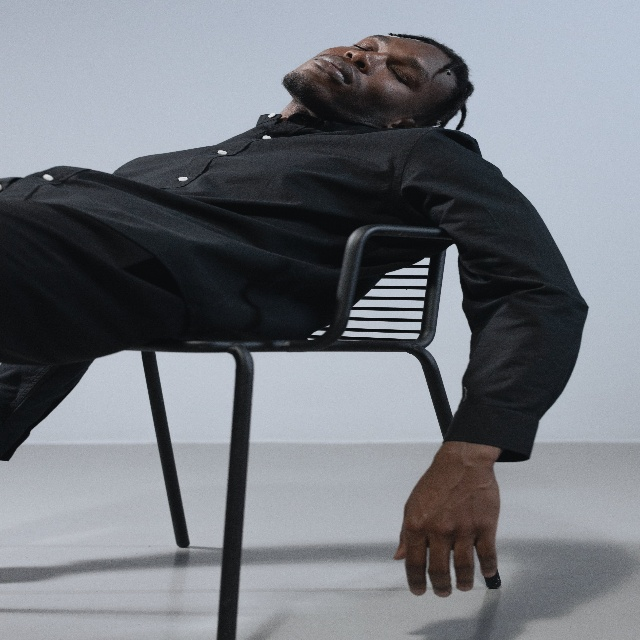Sin_guantes: (395, 449, 503, 594)
